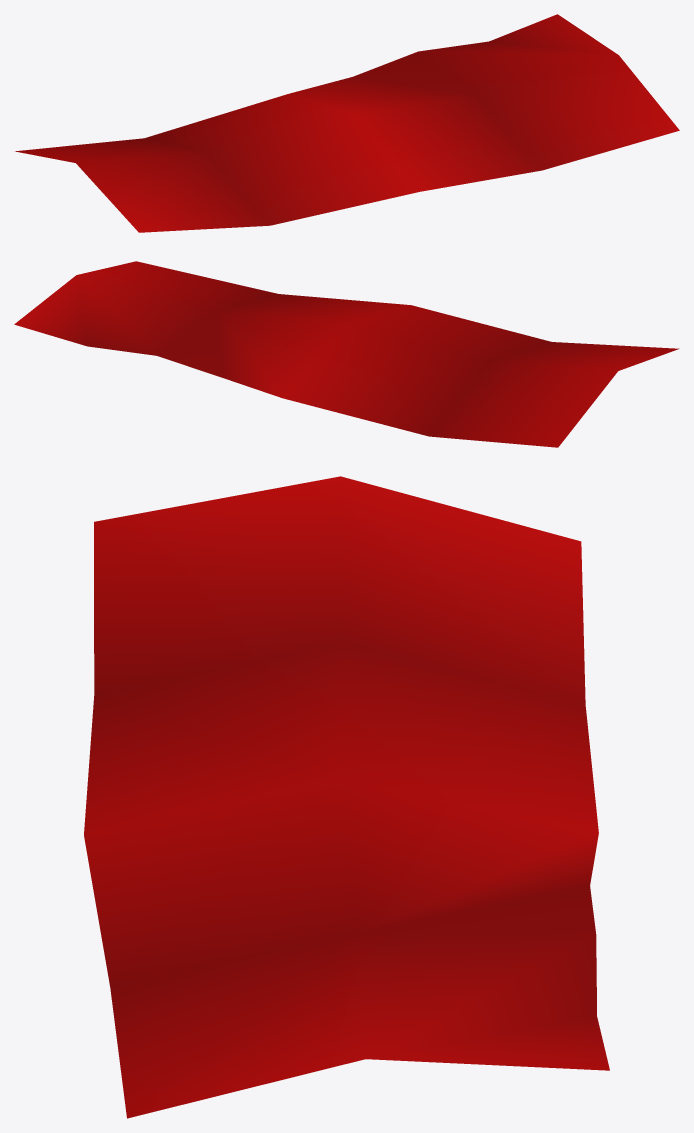
File: canopy_4_cloth.glb
3 views of the same model, one above another, from view 1: azimuth 30°, elevation 25°; view 2: azimuth 150°, elevation 25°; view 3: azimuth 270°, elevation 25° (orthographic). The views are drawn at different scales.
Visible parts, largest first — view 1: MODEL_s_bazaar_cloth_lod0; view 2: MODEL_s_bazaar_cloth_lod0; view 3: MODEL_s_bazaar_cloth_lod0.
Boxes of the visible parts, x1,y1,x2,y2 form: MODEL_s_bazaar_cloth_lod0: [15, 14, 679, 232]; MODEL_s_bazaar_cloth_lod0: [14, 261, 679, 447]; MODEL_s_bazaar_cloth_lod0: [84, 476, 609, 1118].
Size of the model in its own units: 3.25 by 0.358 by 1.38.
